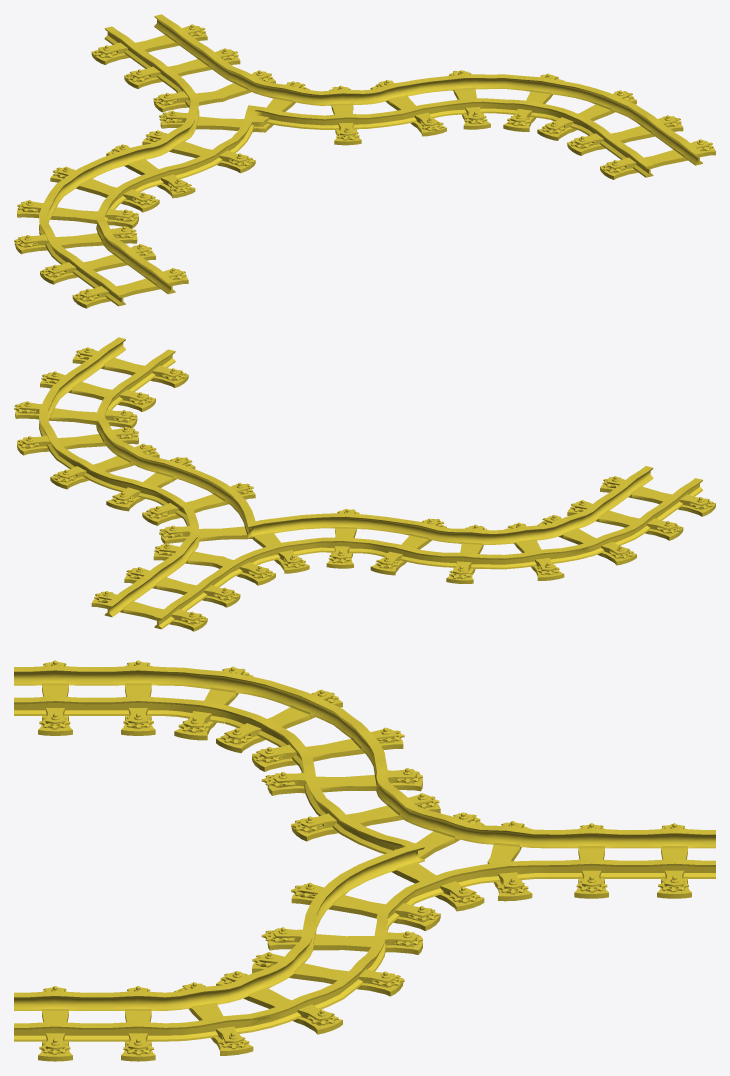
File: Tory_rozwidlenie.fbx
3 views of the same model, one above another, from view 1: azimuth 30°, elevation 25°; view 2: azimuth 150°, elevation 25°; view 3: azimuth 270°, elevation 25° (orthographic). The views are drawn at different scales.
Visible parts, largest first — view 1: Tory do dodania_001, zebatka__low001; view 2: Tory do dodania_001, zebatka__low001; view 3: Tory do dodania_001, zebatka__low001.
Boxes of the visible parts, x1=… form: Tory do dodania_001: x1=15, y1=14, x2=715, y2=308; zebatka__low001: x1=14, y1=26, x2=713, y2=301; Tory do dodania_001: x1=15, y1=337, x2=715, y2=631; zebatka__low001: x1=14, y1=348, x2=713, y2=623; Tory do dodania_001: x1=14, y1=660, x2=715, y2=1061; zebatka__low001: x1=39, y1=661, x2=688, y2=1055.
Bounding box in the file's own units: 1534 × 35.92 × 1157.
